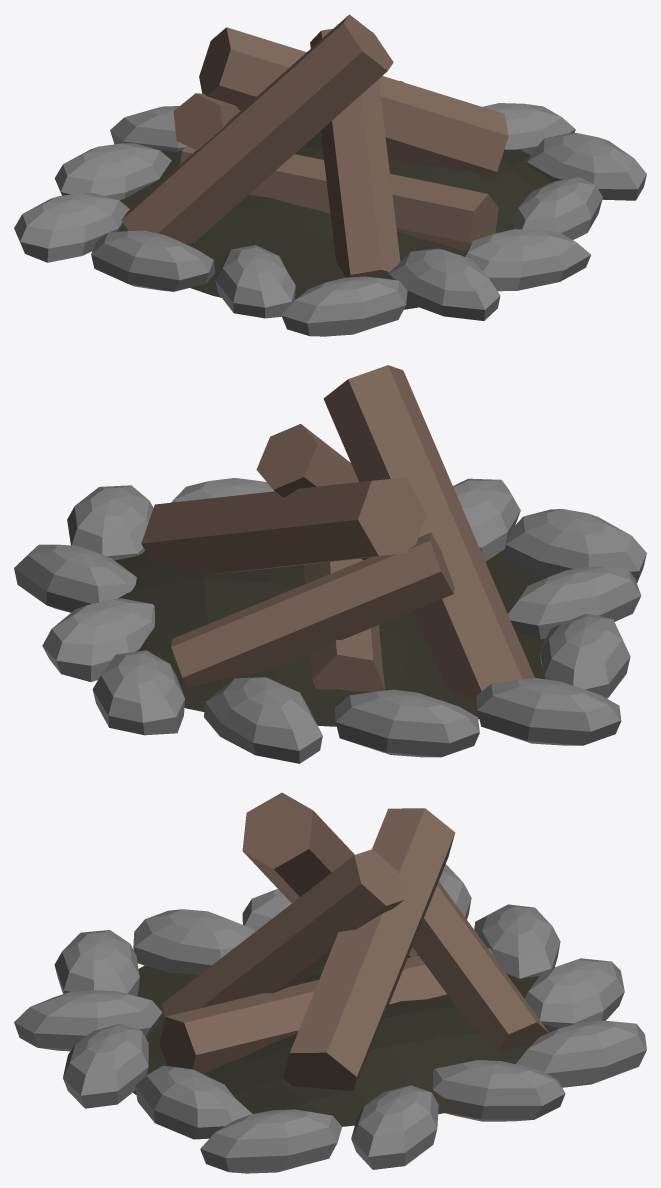
The model's file is campfire.fbx.
The picture shows the model from 3 angles, top to bottom: view 1: azimuth 30°, elevation 25°; view 2: azimuth 150°, elevation 25°; view 3: azimuth 270°, elevation 25°; orthographic projection. The views are drawn at different scales.
Visible parts, largest first — view 1: Sphere, Cylinder, Plane, Cylinder.002, Cylinder.001, Cylinder.004, Cylinder.003; view 2: Sphere, Cylinder, Cylinder.002, Plane, Cylinder.003, Cylinder.001, Cylinder.004; view 3: Sphere, Cylinder.002, Plane, Cylinder.001, Cylinder.004, Cylinder.003, Cylinder.
Part boxes in pixels (<box>): Sphere: <box>14,81,646,336</box>; Cylinder: <box>121,14,393,243</box>; Plane: <box>119,134,551,309</box>; Cylinder.002: <box>199,27,508,176</box>; Cylinder.001: <box>310,28,400,277</box>; Cylinder.004: <box>180,146,498,250</box>; Cylinder.003: <box>173,93,240,150</box>; Sphere: <box>14,478,646,763</box>; Cylinder: <box>323,365,534,701</box>; Cylinder.002: <box>141,477,426,574</box>; Plane: <box>114,549,547,726</box>; Cylinder.003: <box>171,532,454,687</box>; Cylinder.001: <box>256,424,368,559</box>; Cylinder.004: <box>304,558,384,691</box>; Sphere: <box>14,864,646,1173</box>; Cylinder.002: <box>283,808,455,1090</box>; Plane: <box>133,954,559,1126</box>; Cylinder.001: <box>162,849,404,1017</box>; Cylinder.004: <box>159,947,492,1074</box>; Cylinder.003: <box>412,881,548,1049</box>; Cylinder: <box>242,792,417,957</box>.
Size of the model in its own units: 95.5 by 41.03 by 88.82.
